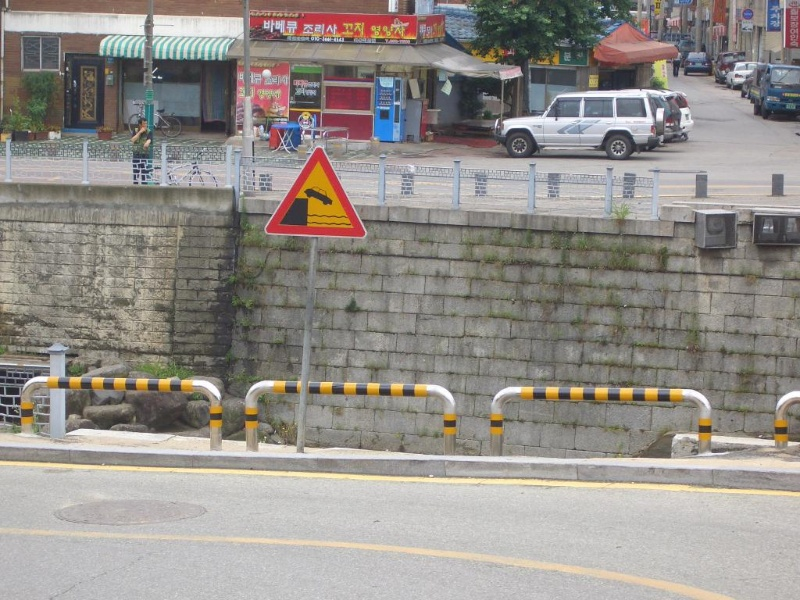cliff_edge: (258, 127, 394, 247)
